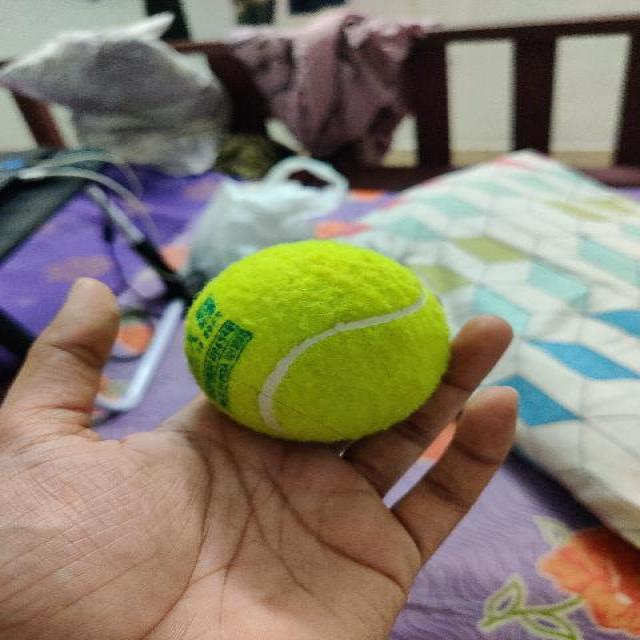tennis-ball: (178, 239, 454, 443)
